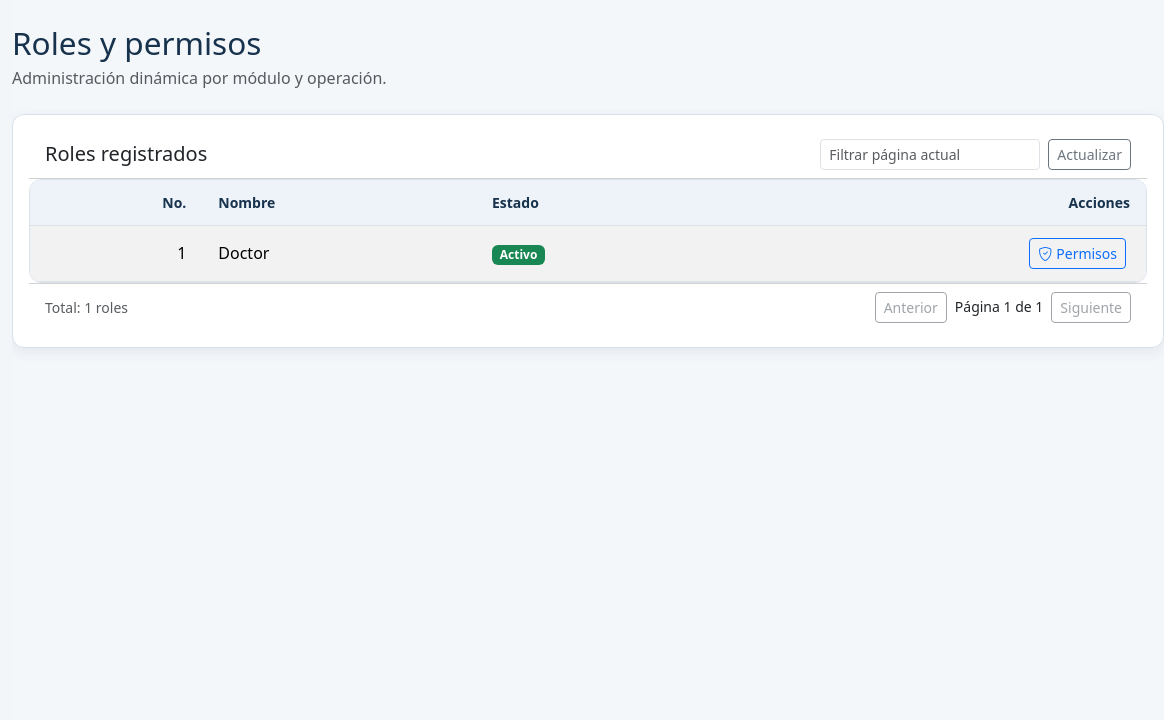
Test: RolesComponent › muestra ProblemDetails cuando falla el guardado de un permiso
The image size is (1164, 720).
Click the button with aria-label "Administrar permisos de Doctor" at [1078, 253], box [1029,238,1126,269]
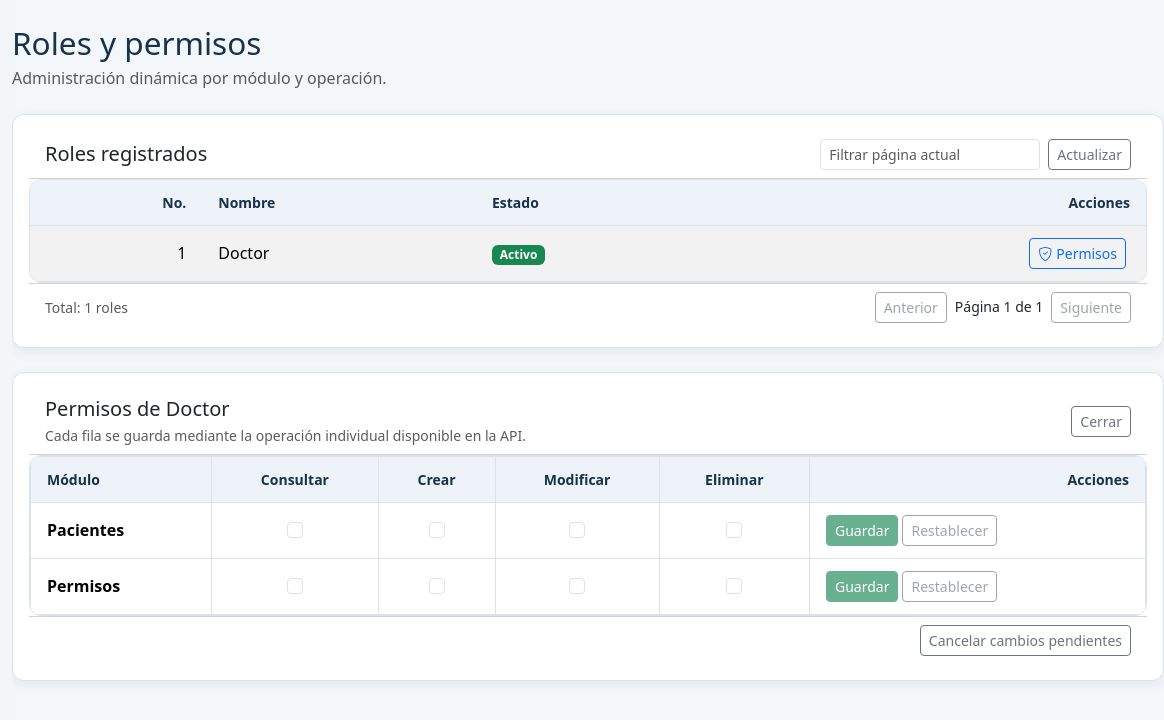
Click the checkbox named "Pacientes: Crear" at [437, 530], box [429,522,445,538]
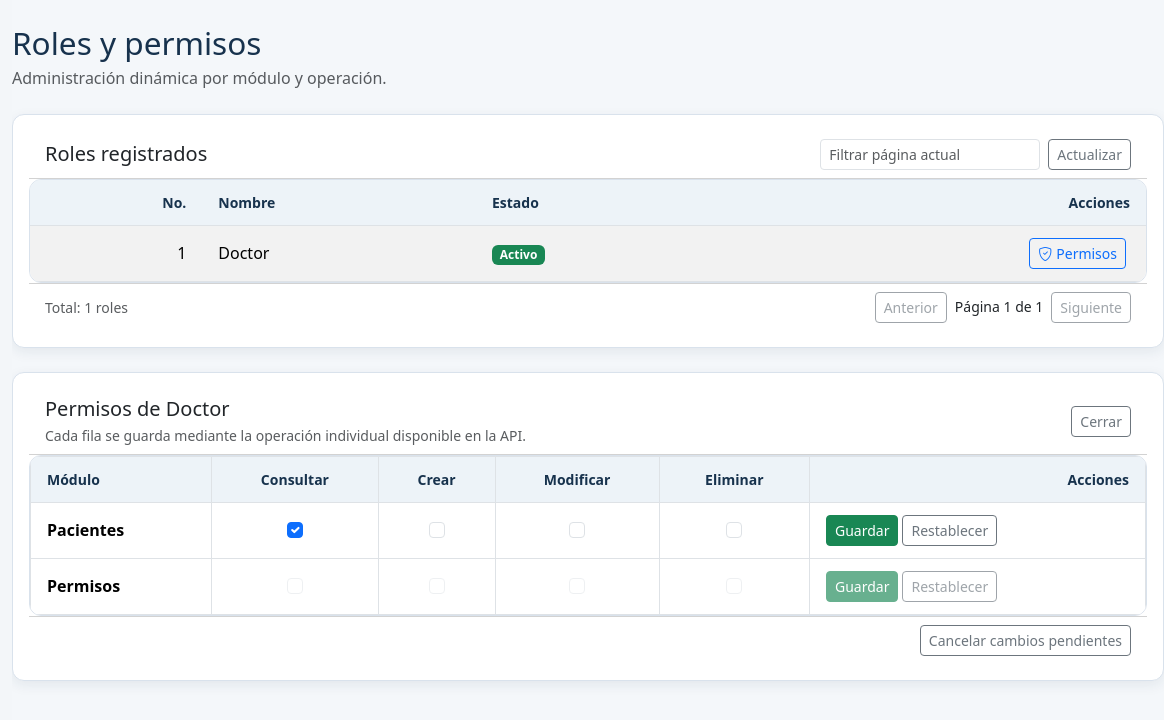
Click the button "Guardar" in the row of "Pacientes" at [862, 530], box [826,515,898,546]
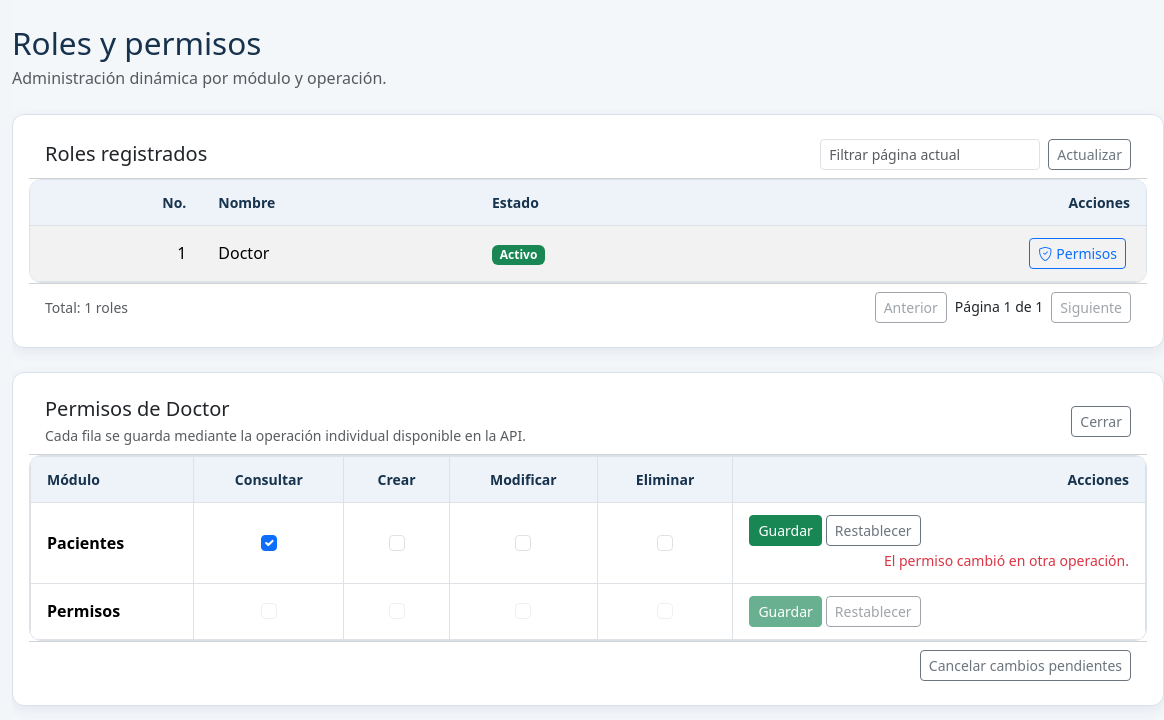
Check: the text "El permiso cambió en otra operación." is shown, box [884,551,1129,570]
